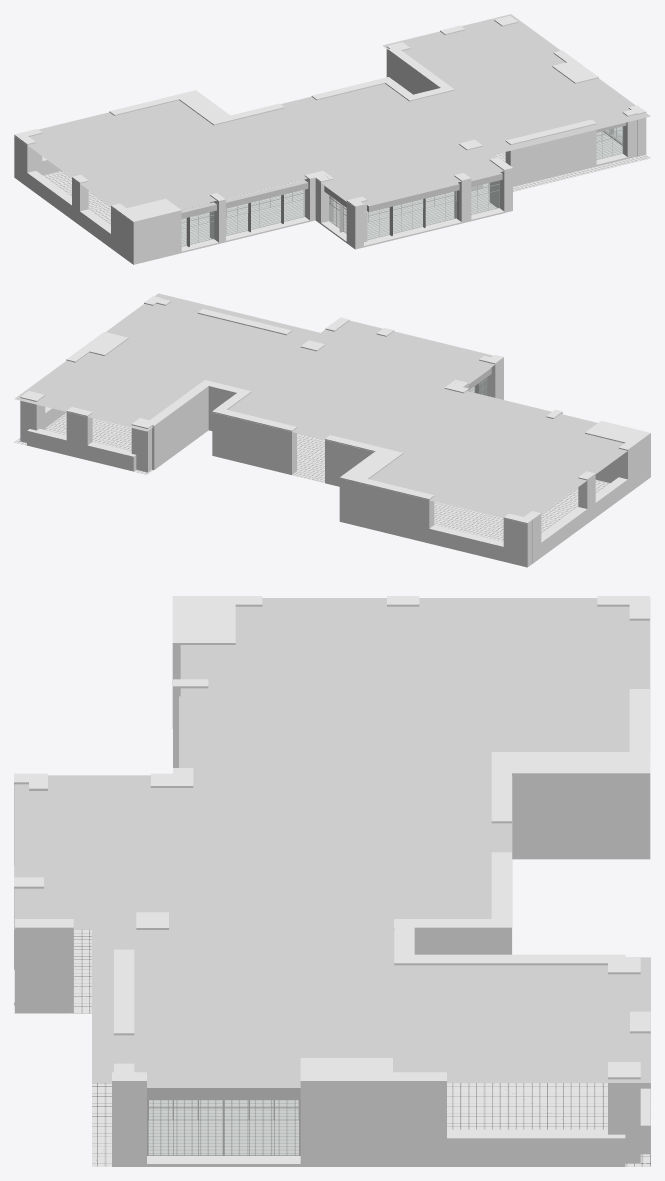
Rendered from interior p2.glb.
3 views of the same model, one above another, from view 1: azimuth 30°, elevation 25°; view 2: azimuth 150°, elevation 25°; view 3: azimuth 270°, elevation 25° (orthographic). The views are drawn at different scales.
Visible parts, largest first — view 1: Ceiling, Walls, Floor, Window.001, Window.002, Window.007, Window, Wall Extension.001, Wall Extension.005, Window.009, Window.011, Window.003 (+3 smaller); view 2: Ceiling, Walls, Floor; view 3: Ceiling, Walls, Floor, Window.013, Window.012, Wall Extension.004.
Boxes of the visible parts, x1,y1,x2,y2 form: Ceiling: (14, 14, 650, 209); Walls: (14, 16, 646, 264); Floor: (14, 131, 650, 246); Window.001: (423, 190, 458, 227); Window.002: (389, 198, 425, 235); Window.007: (248, 194, 283, 231); Window: (471, 180, 499, 214); Wall Extension.001: (367, 182, 459, 211); Wall Extension.005: (226, 180, 308, 208); Window.009: (186, 211, 214, 246); Window.011: (596, 127, 623, 159); Window.003: (364, 206, 392, 240); Ceiling: (14, 293, 627, 520); Walls: (20, 296, 650, 567); Floor: (14, 413, 609, 566); Ceiling: (14, 598, 650, 1082); Walls: (14, 596, 650, 1166); Floor: (14, 929, 650, 1166); Window.013: (222, 1100, 300, 1155); Window.012: (147, 1100, 224, 1155); Wall Extension.004: (147, 1083, 300, 1099).
Bounding box in the file's own units: 36.34 × 3 × 20.17.
5 materials, 1 textured.
